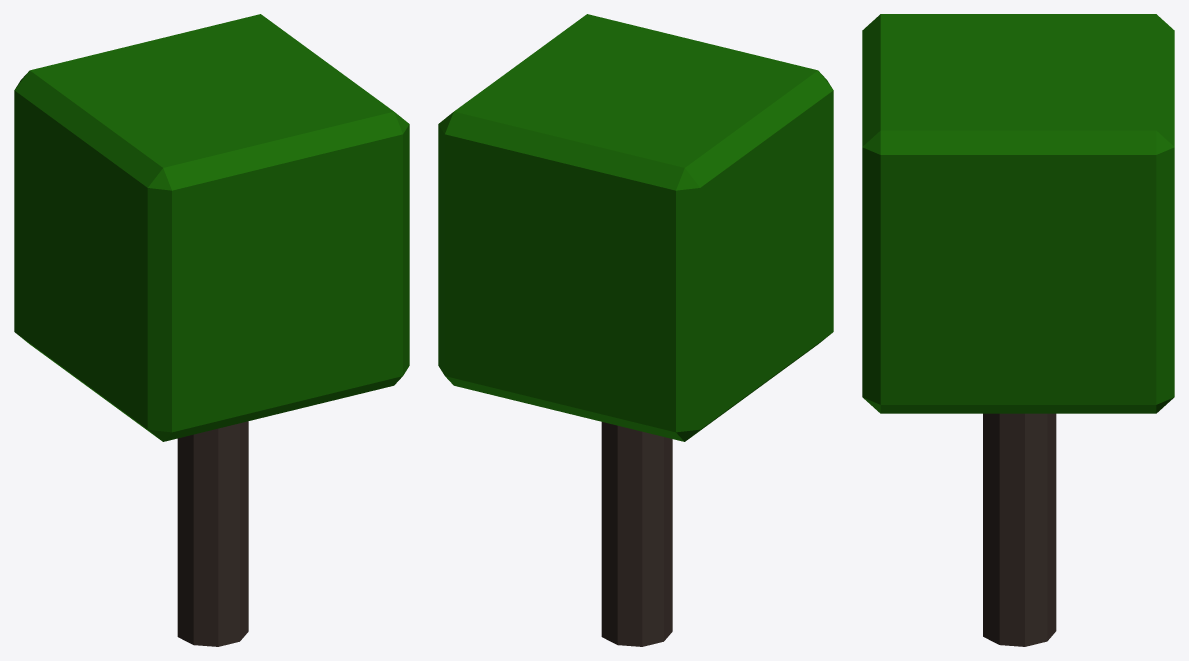
File: Simple_Tree_1.fbx
3 renders of one model, left to right at view 1: azimuth 30°, elevation 25°; view 2: azimuth 150°, elevation 25°; view 3: azimuth 270°, elevation 25°, orthographic. The views are drawn at different scales.
Parts seen in each view (by area): view 1: Simple_Tree_1; view 2: Simple_Tree_1; view 3: Simple_Tree_1.
Part boxes in pixels (<box>): Simple_Tree_1: <box>14,14,409,646</box>; Simple_Tree_1: <box>438,14,833,646</box>; Simple_Tree_1: <box>862,14,1174,646</box>.
Bounding box in the file's own units: 242 × 478 × 242.
